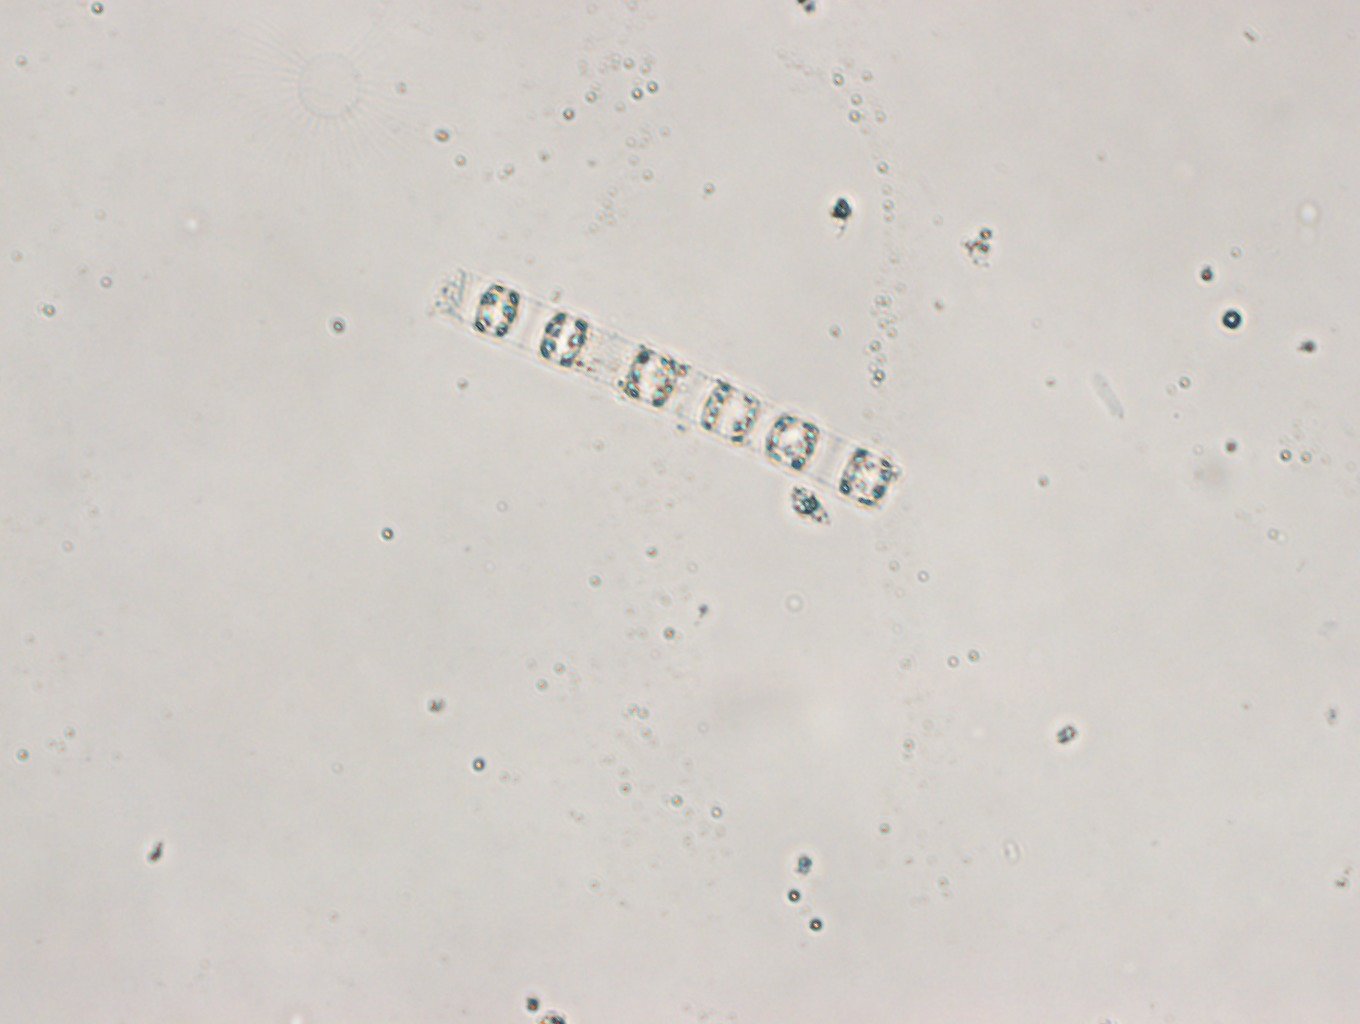skeletonema: (433, 264, 908, 513)
